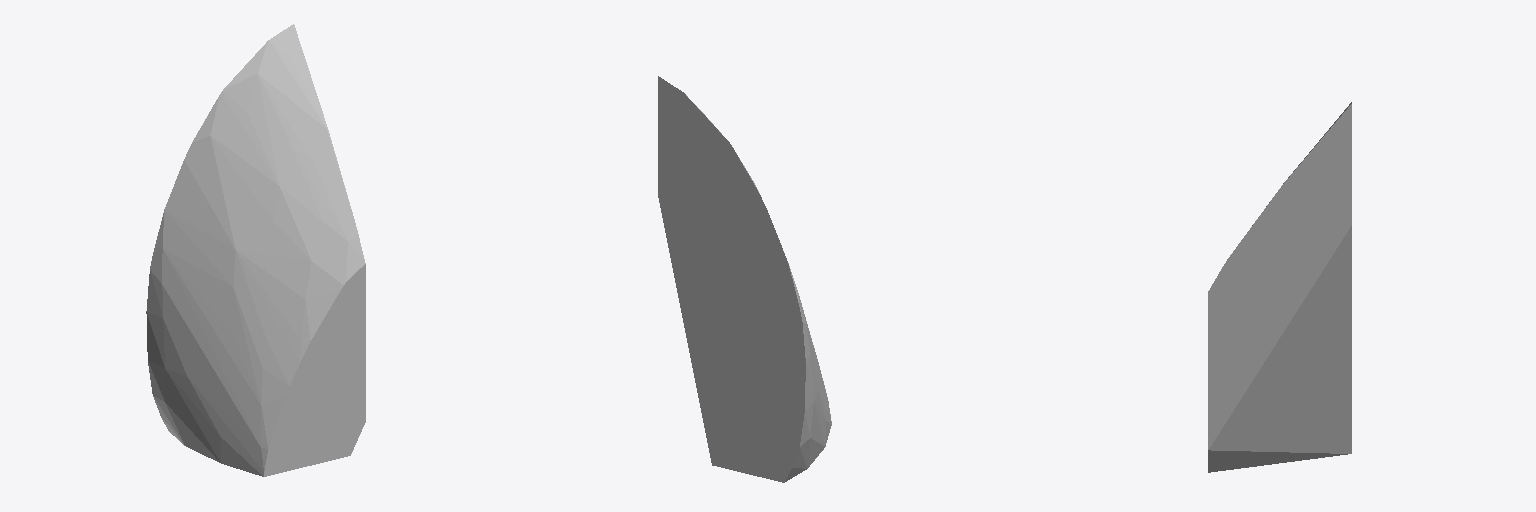
Rendered from phantom-elastrat_collision_309.obj.
The picture shows the model from 3 angles: view 1: azimuth 30°, elevation 25°; view 2: azimuth 150°, elevation 25°; view 3: azimuth 270°, elevation 25°; orthographic projection.
Size of the model in its own units: 0.0037 by 0.0089 by 0.0031.